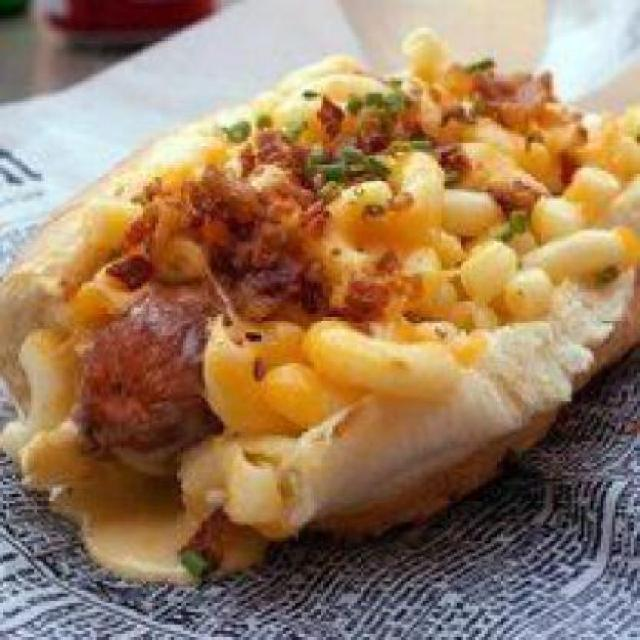hot dog: (72, 286, 218, 454)
macaroni and cheese: (125, 31, 637, 426)
